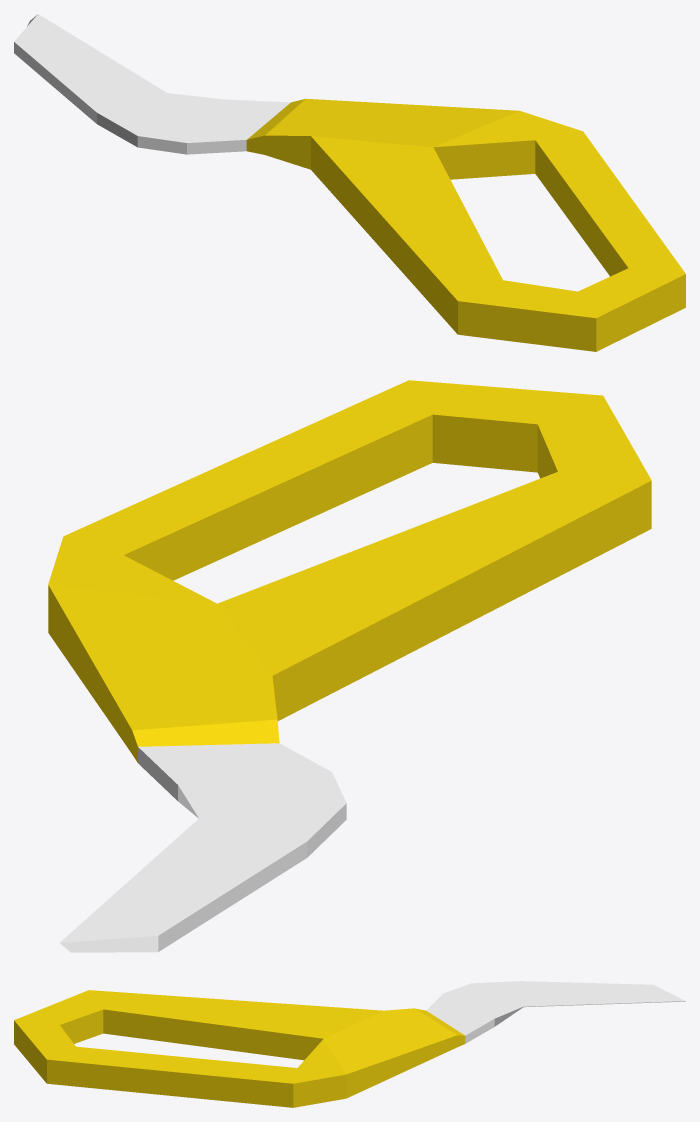
File: Flower Scissors Right.fbx
The picture shows the model from 3 angles, top to bottom: view 1: azimuth 30°, elevation 25°; view 2: azimuth 150°, elevation 25°; view 3: azimuth 270°, elevation 25°; orthographic projection. The views are drawn at different scales.
Parts seen in each view (by area): view 1: Flower Scissors P2; view 2: Flower Scissors P2; view 3: Flower Scissors P2.
Boxes of the visible parts, x1,y1,x2,y2 form: Flower Scissors P2: (14,14,685,351); Flower Scissors P2: (48,380,651,952); Flower Scissors P2: (14,981,685,1107).
Bounding box in the file's own units: 0.1795 × 0.0176 × 0.444.
